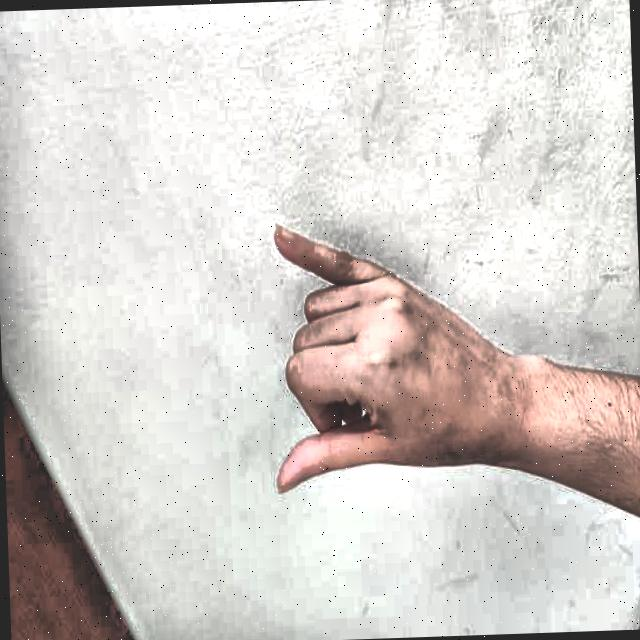Oi: (232, 186, 519, 536)
